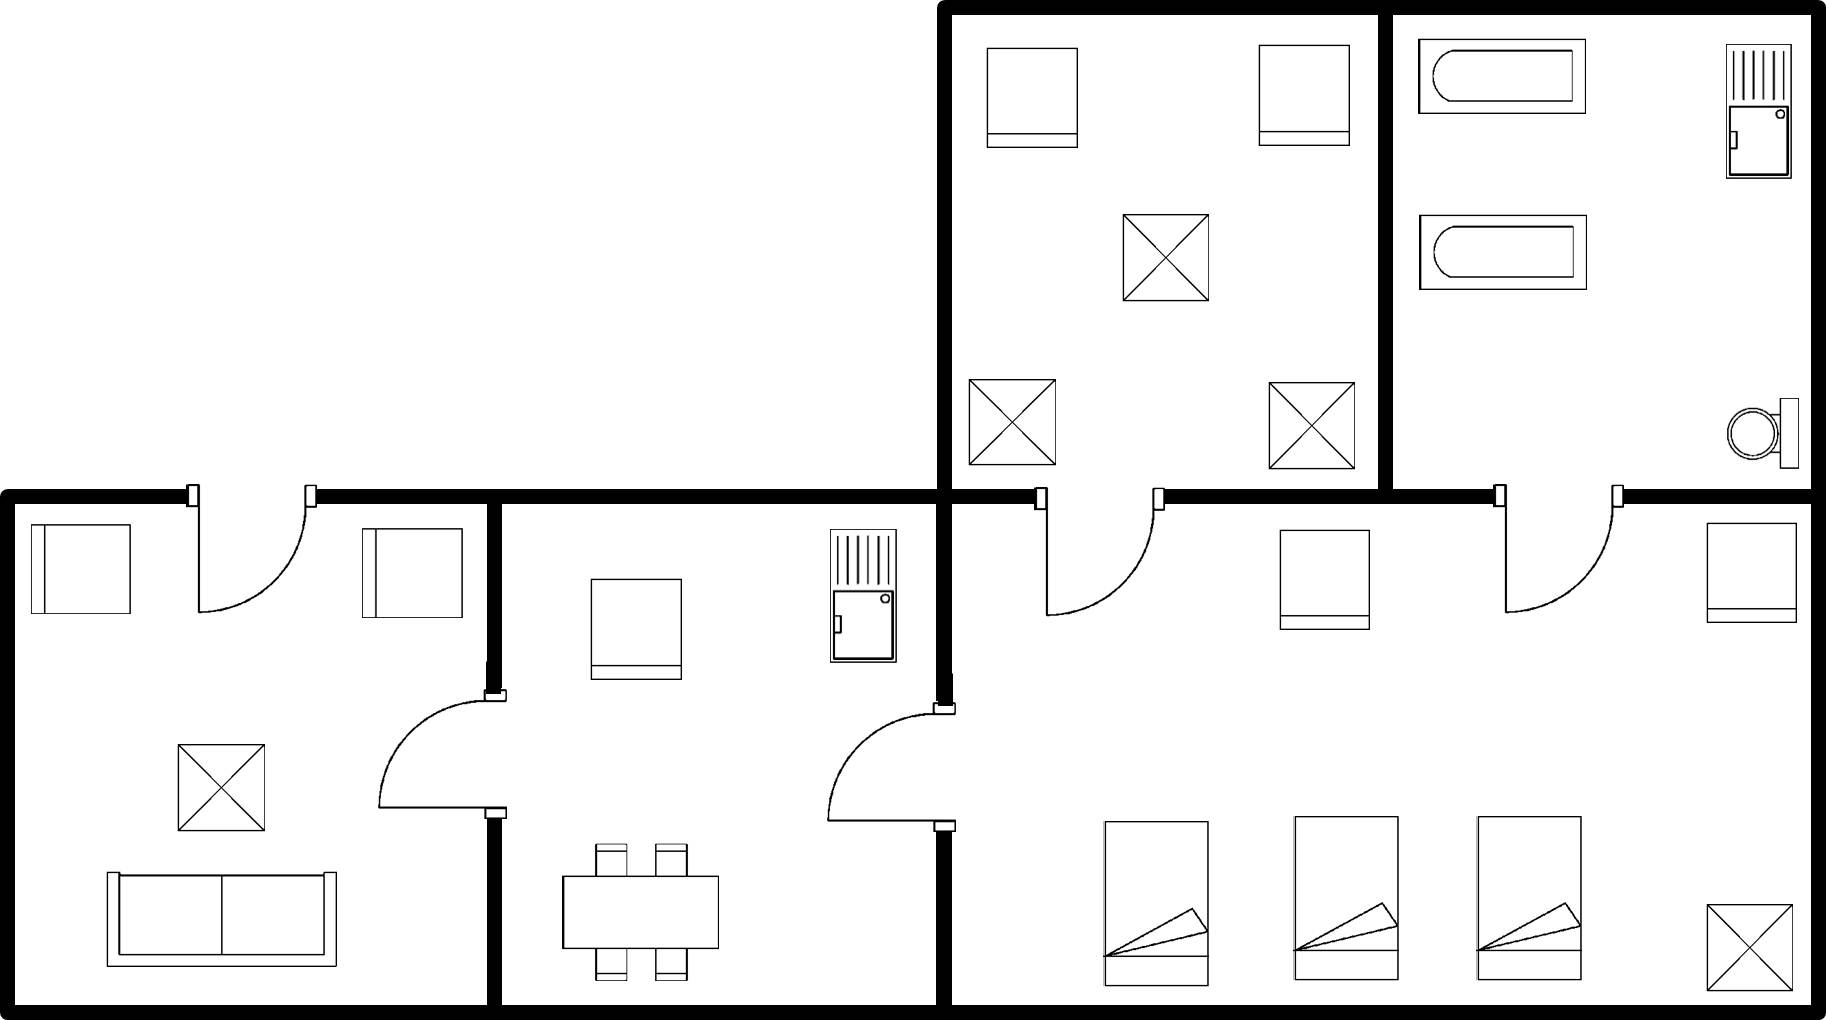bed: (1096, 812, 1226, 992), (1466, 807, 1595, 988), (1283, 808, 1408, 990)
coffee_table: (165, 733, 276, 842), (1694, 892, 1803, 1000), (959, 370, 1066, 478), (1114, 207, 1218, 317), (1260, 374, 1363, 481)
dining_table: (550, 833, 730, 991)
large_sink: (1718, 386, 1805, 477)
large_sofa: (95, 861, 348, 979)
sink: (820, 517, 904, 674), (1718, 35, 1799, 190)
small_sofa: (1692, 512, 1809, 638), (579, 568, 695, 691), (976, 40, 1091, 161), (1247, 33, 1359, 156), (1269, 522, 1379, 643), (350, 518, 473, 627), (24, 517, 138, 627)
tub: (1407, 203, 1600, 300), (1412, 29, 1598, 127)
